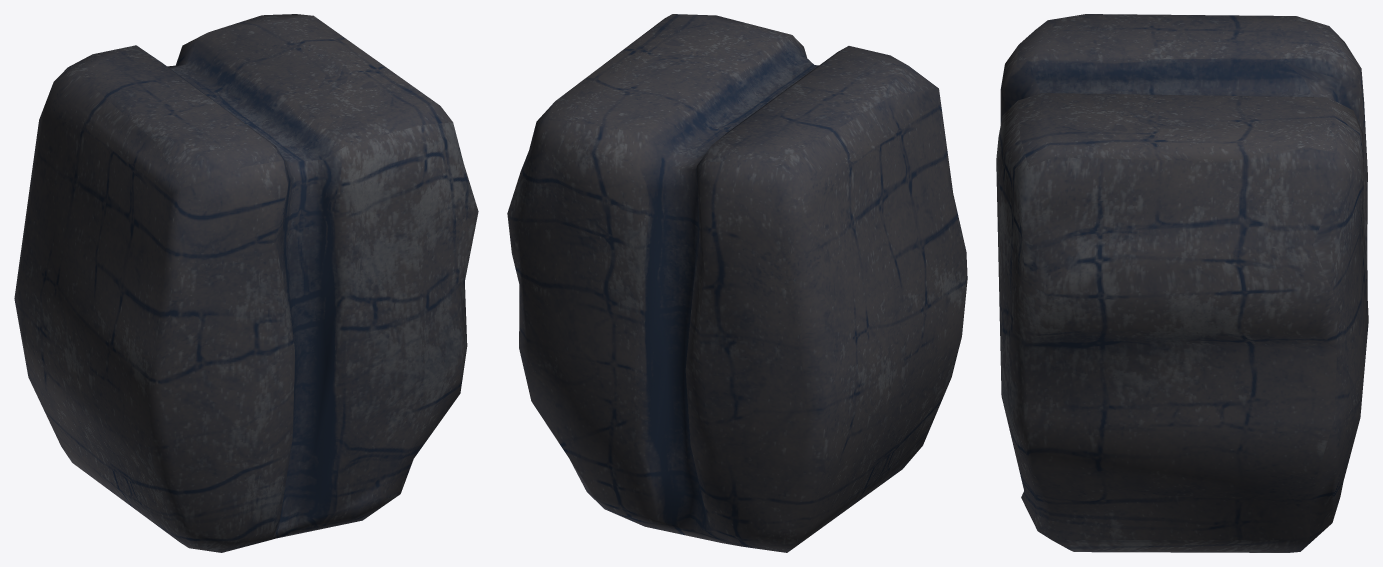
The model's file is gros_block2.obj.
The picture shows the model from 3 angles, left to right: view 1: azimuth 30°, elevation 25°; view 2: azimuth 150°, elevation 25°; view 3: azimuth 270°, elevation 25°; orthographic projection. The views are drawn at different scales.
Parts seen in each view (by area): view 1: gros_block2.001; view 2: gros_block2.001; view 3: gros_block2.001.
Part boxes in pixels (x1,y1,x2,y2): gros_block2.001: (14, 14, 478, 552); gros_block2.001: (507, 14, 967, 552); gros_block2.001: (996, 14, 1368, 552).
Bounding box in the file's own units: 3873 × 4686 × 3570.
Materials: 1 (1 with a texture image).
